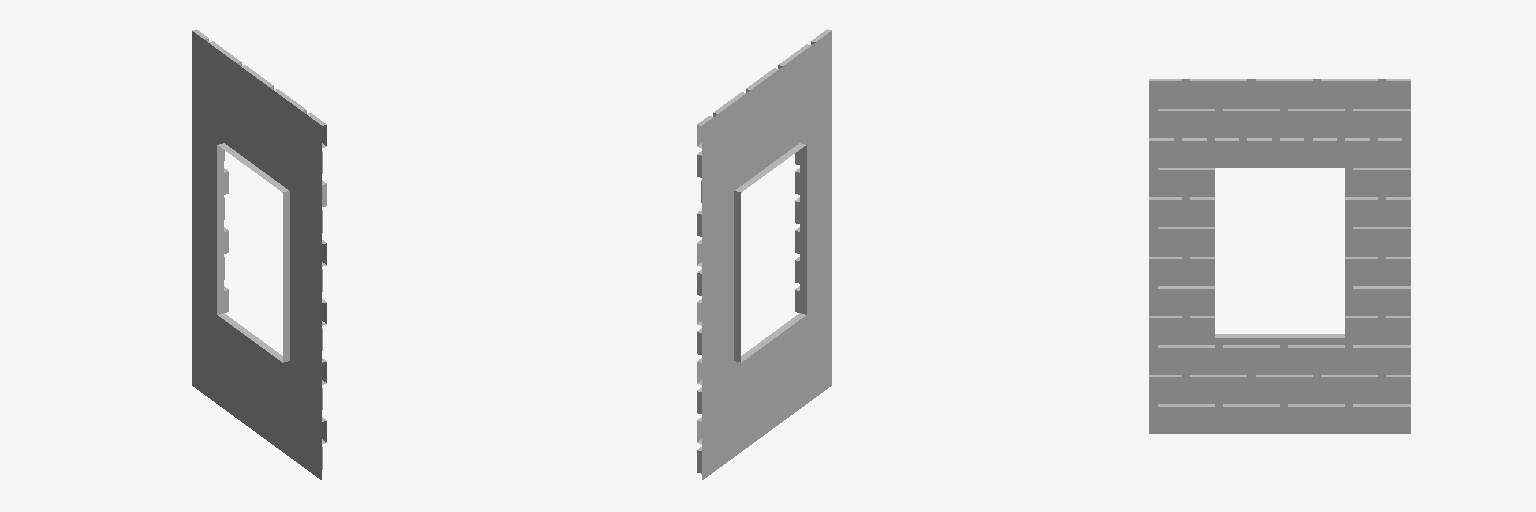
The model's file is Brick_Wall_Window.obj.
The picture shows the model from 3 angles: view 1: azimuth 30°, elevation 25°; view 2: azimuth 150°, elevation 25°; view 3: azimuth 270°, elevation 25°; orthographic projection.
Visible parts, largest first — view 1: Brick_Wall_Window_Plane.232; view 2: Brick_Wall_Window_Plane.232; view 3: Brick_Wall_Window_Plane.232.
Part boxes in pixels (x1,y1,x2,y2): Brick_Wall_Window_Plane.232: (192, 29, 326, 479); Brick_Wall_Window_Plane.232: (697, 29, 831, 479); Brick_Wall_Window_Plane.232: (1149, 79, 1410, 433).
Bounding box in the file's own units: 0.1067 × 3 × 2.